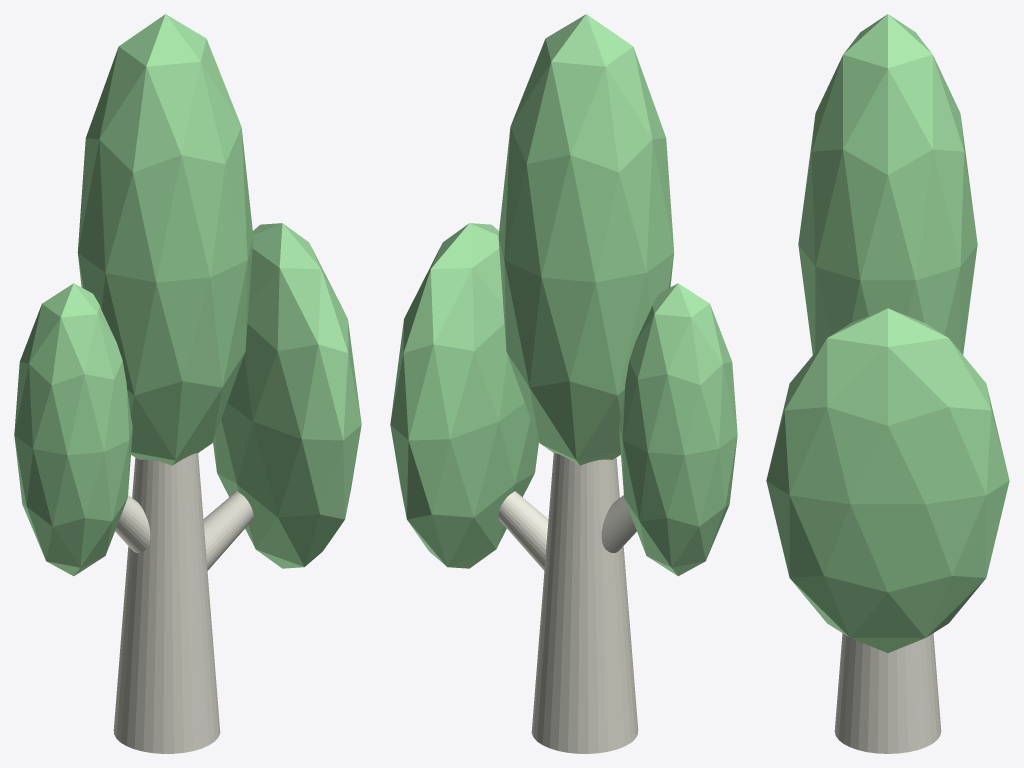
File: birch_tree.glb
3 renders of one model, left to right at view 1: azimuth 30°, elevation 25°; view 2: azimuth 150°, elevation 25°; view 3: azimuth 270°, elevation 25°, orthographic.
Visible parts, largest first — view 1: Icosphere.002, Icosphere.001, Icosphere, Cylinder, Cylinder.001, Cylinder.002; view 2: Icosphere.002, Icosphere.001, Icosphere, Cylinder, Cylinder.001, Cylinder.002; view 3: Icosphere.001, Icosphere.002, Cylinder.
Part boxes in pixels (x1,y1,x2,y2): Icosphere.002: [77, 14, 253, 465]; Icosphere.001: [213, 223, 361, 568]; Icosphere: [14, 283, 132, 576]; Cylinder: [113, 453, 220, 753]; Cylinder.001: [203, 491, 253, 570]; Cylinder.002: [115, 495, 150, 552]; Icosphere.002: [498, 14, 674, 465]; Icosphere.001: [390, 223, 538, 568]; Icosphere: [619, 283, 737, 576]; Cylinder: [531, 453, 638, 753]; Cylinder.001: [498, 491, 548, 570]; Cylinder.002: [601, 495, 636, 552]; Icosphere.001: [766, 308, 1009, 652]; Icosphere.002: [798, 14, 977, 354]; Cylinder: [834, 633, 941, 753].
Size of the model in its own units: 2.91 by 6.5 by 2.
